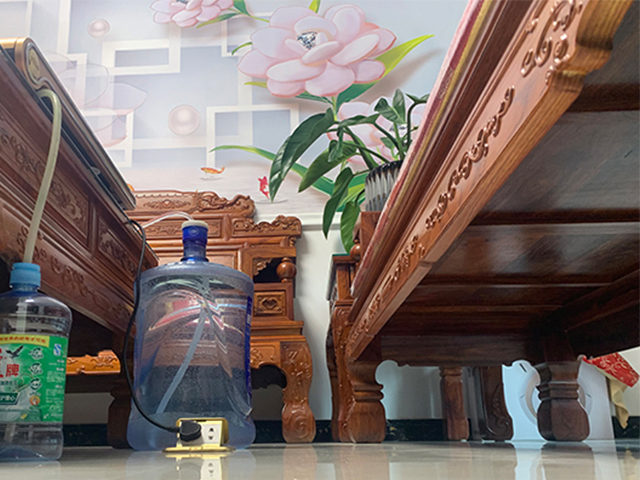stool: (323, 1, 640, 439)
table: (1, 34, 159, 450)
wire: (122, 217, 202, 443)
